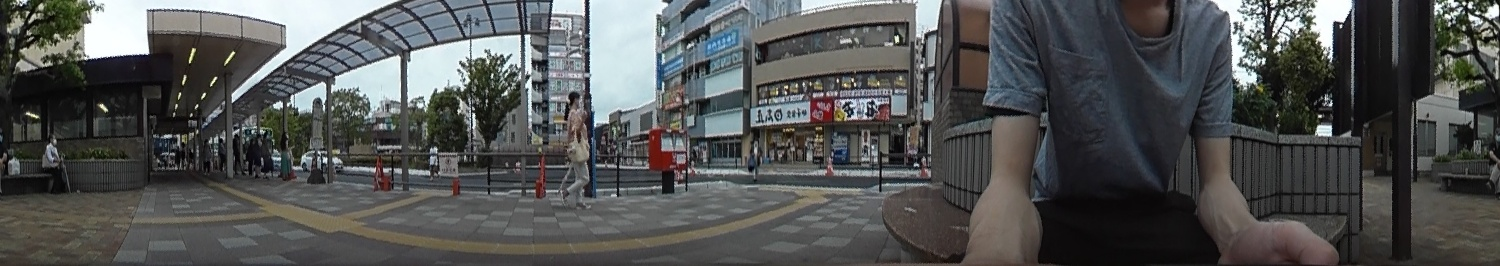difficult_person: (1487, 128, 1500, 195), (279, 130, 292, 178), (250, 132, 262, 177), (262, 131, 274, 176), (751, 140, 761, 179), (215, 136, 225, 172), (200, 137, 210, 171), (233, 133, 240, 174)
person: (562, 88, 590, 206), (39, 133, 70, 196)
